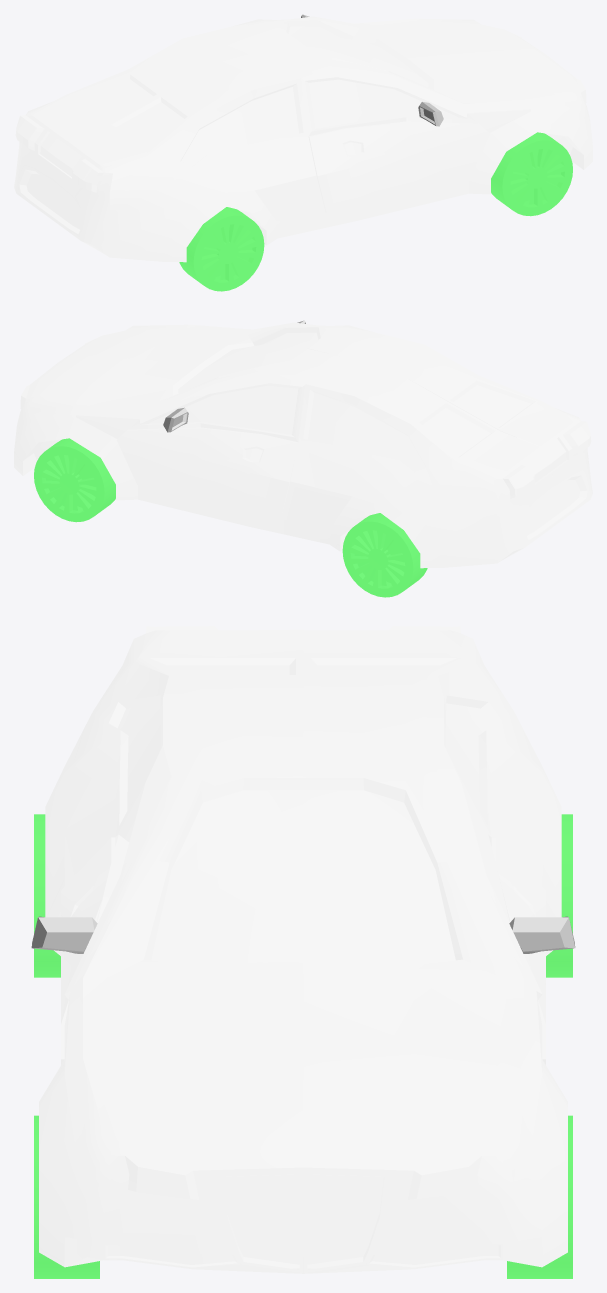
The model's file is coche.glb.
The picture shows the model from 3 angles, top to bottom: view 1: azimuth 30°, elevation 25°; view 2: azimuth 150°, elevation 25°; view 3: azimuth 270°, elevation 25°; orthographic projection. The views are drawn at different scales.
Parts seen in each view (by area): view 1: Cube, Puertas_Inter, Ruedas_Inter, iluminacion_Inter, Cube.001; view 2: Cube, Puertas_Inter, Ruedas_Inter, iluminacion_Inter, Cube.001; view 3: Cube, Puertas_Inter, Ruedas_Inter, iluminacion_Inter, Cube.001.
Part boxes in pixels (x1,y1,x2,y2): Cube: (14, 16, 592, 262); Puertas_Inter: (233, 19, 490, 212); Ruedas_Inter: (179, 132, 572, 291); iluminacion_Inter: (15, 28, 586, 192); Cube.001: (301, 14, 443, 126); Cube: (14, 322, 592, 568); Puertas_Inter: (116, 325, 373, 518); Ruedas_Inter: (34, 438, 427, 597); iluminacion_Inter: (20, 334, 591, 498); Cube.001: (163, 320, 305, 432); Cube: (39, 629, 567, 1273); Puertas_Inter: (61, 745, 545, 1024); Ruedas_Inter: (34, 814, 572, 1278); iluminacion_Inter: (125, 626, 481, 1199); Cube.001: (31, 916, 575, 953).
Size of the model in its own units: 18.38 by 5.78 by 8.62.
